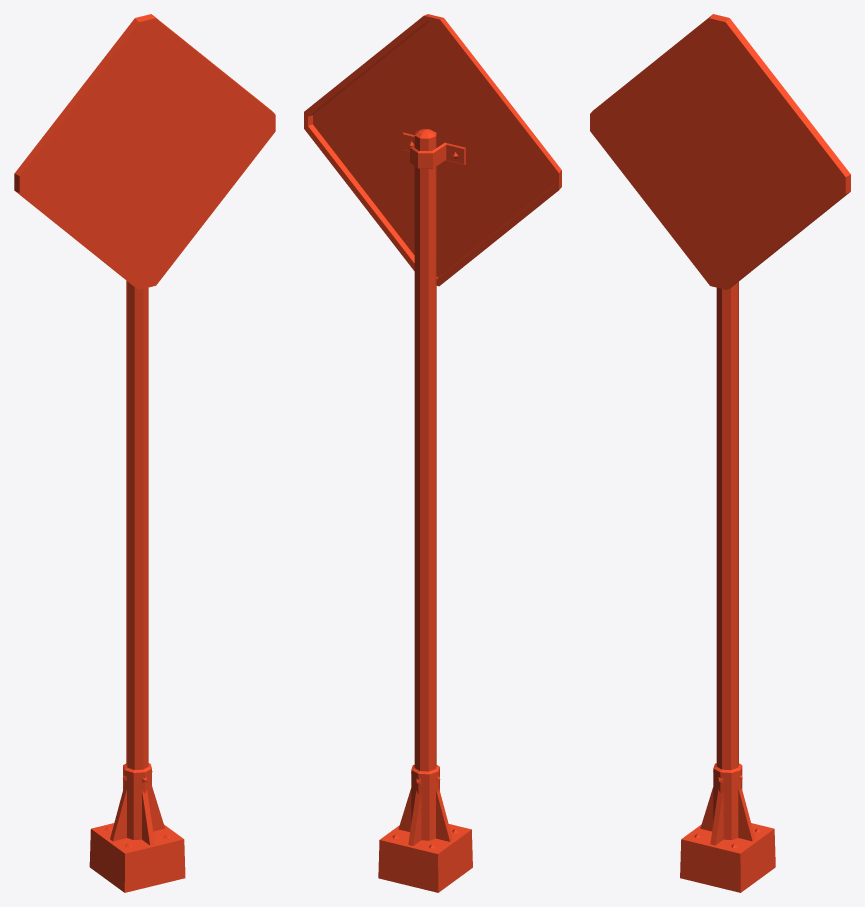
The model's file is SM_Sign_Sideroad_D_City.fbx.
The picture shows the model from 3 angles, left to right: view 1: azimuth 30°, elevation 25°; view 2: azimuth 150°, elevation 25°; view 3: azimuth 330°, elevation 25°; orthographic projection.
Parts seen in each view (by area): view 1: SM_Sign_Sideroad_D_City; view 2: SM_Sign_Sideroad_D_City; view 3: SM_Sign_Sideroad_D_City.
Boxes of the visible parts, left/top/right/bottom form: SM_Sign_Sideroad_D_City: left=14, top=14, right=275, bottom=892; SM_Sign_Sideroad_D_City: left=304, top=14, right=561, bottom=892; SM_Sign_Sideroad_D_City: left=590, top=14, right=850, bottom=892.
Bounding box in the file's own units: 0.7813 × 2.49 × 0.1839.
